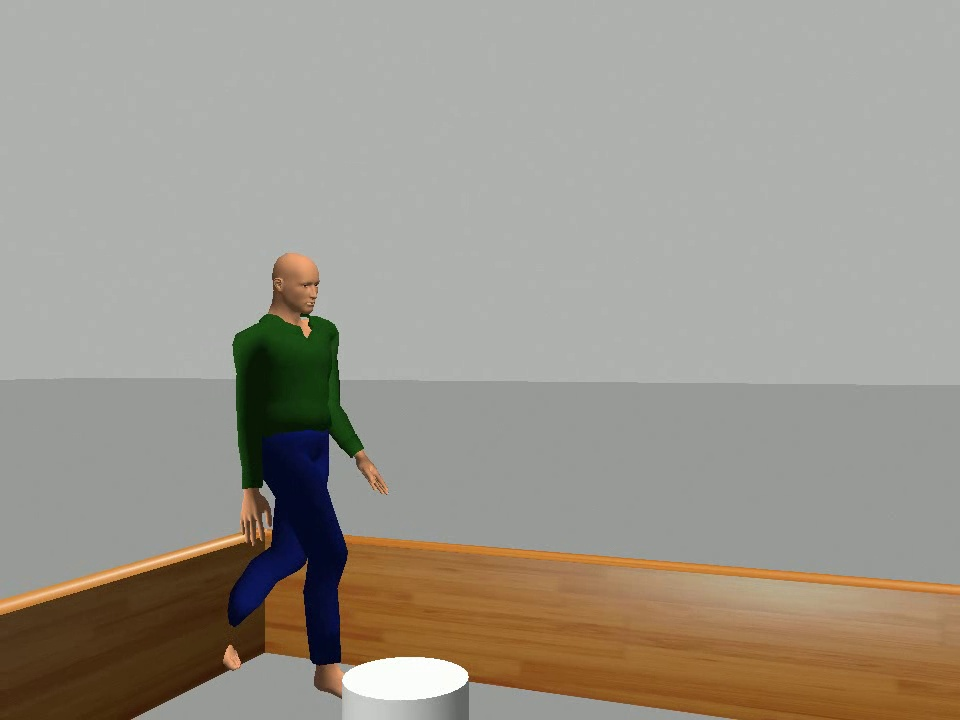person: (221, 250, 394, 713)
